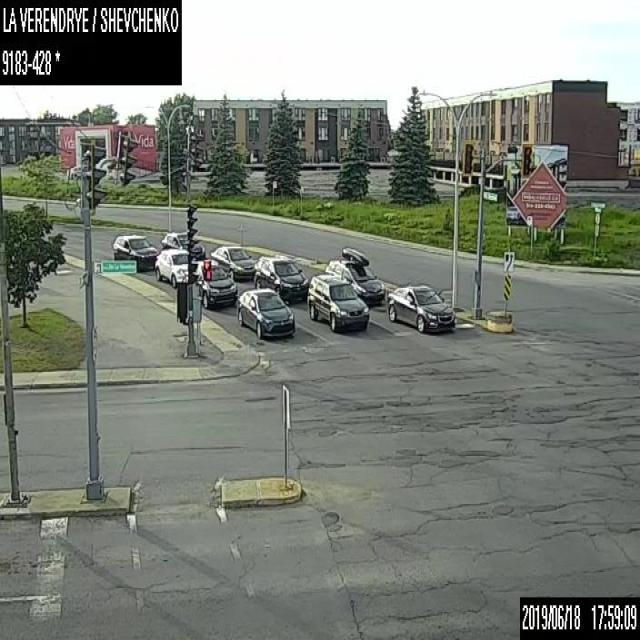vehicle: (324, 245, 384, 307), (307, 272, 369, 331), (387, 282, 457, 332), (237, 287, 294, 339), (253, 254, 309, 302), (195, 262, 237, 308), (154, 248, 203, 286), (110, 233, 158, 270), (210, 244, 256, 279), (160, 231, 205, 259)
